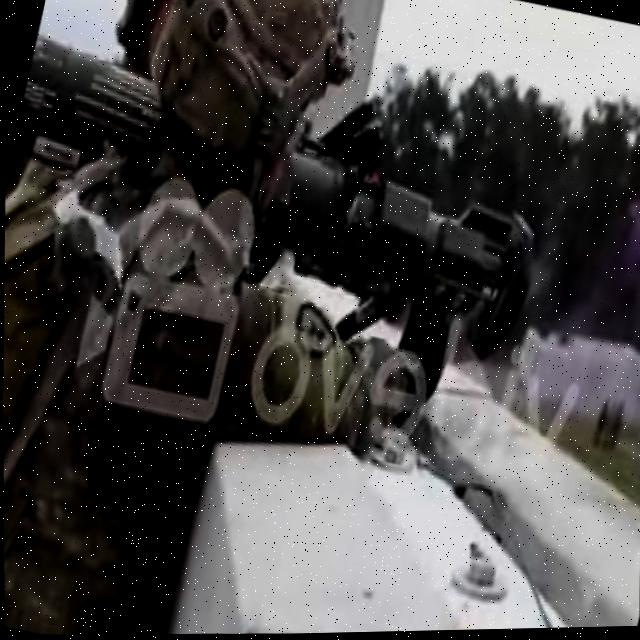rocket: (0, 14, 557, 371)
